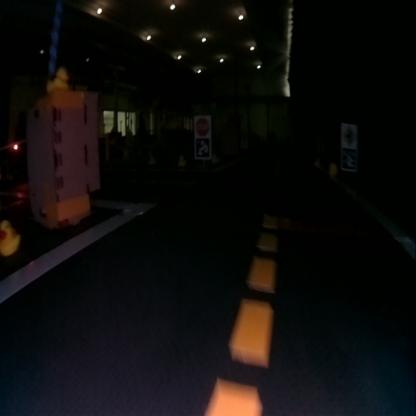Duckie: (1, 219, 18, 254), (46, 67, 66, 90), (329, 162, 335, 175), (177, 154, 184, 163), (313, 157, 319, 165), (211, 154, 217, 161)
Intersection sign: (341, 123, 355, 144)
QR code: (340, 149, 356, 170), (194, 137, 209, 156)
Stop sign: (194, 115, 210, 135)
